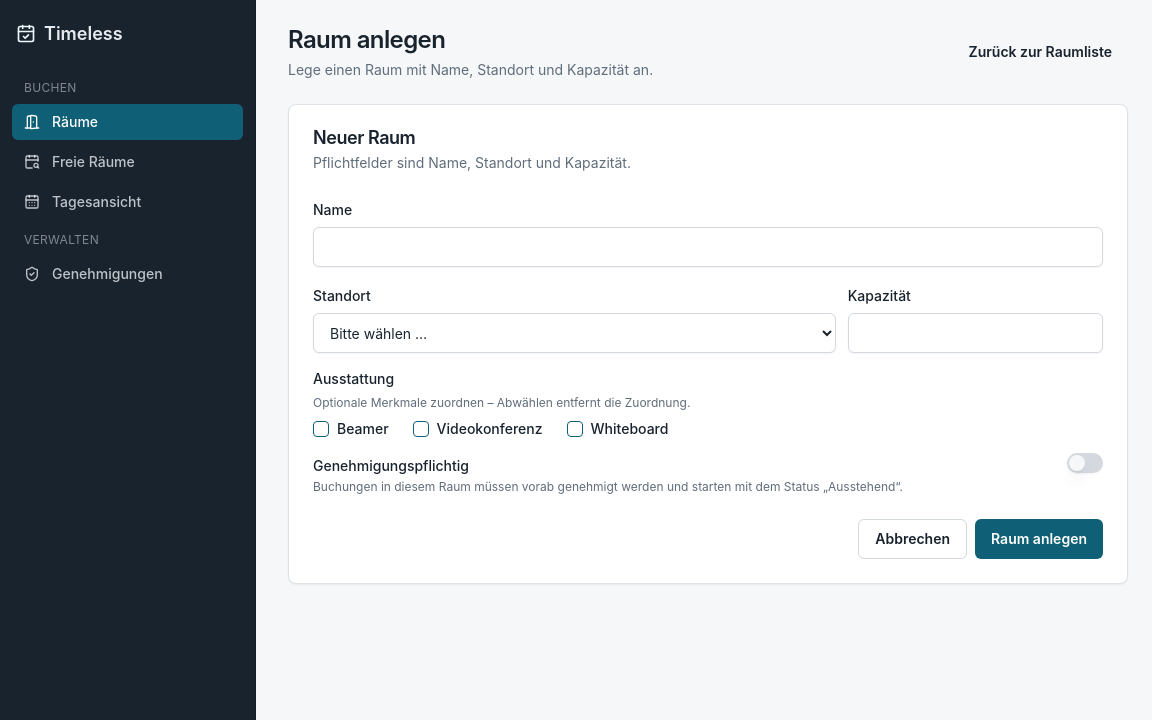
RoomForm – Submit-Fehleranzeige (Reject-Case) › zeigt einen Backend-400 als destructives Alert über dem Formular und aktiviert den Button danach wieder
The width and height of the screenshot is (1152, 720).
Expected: the form with test id "room-form" is shown, 313,197 -> 1103,559
In the field with test id "room-name": (708, 247) 313,227 -> 1103,267, type "Atelier Nord"
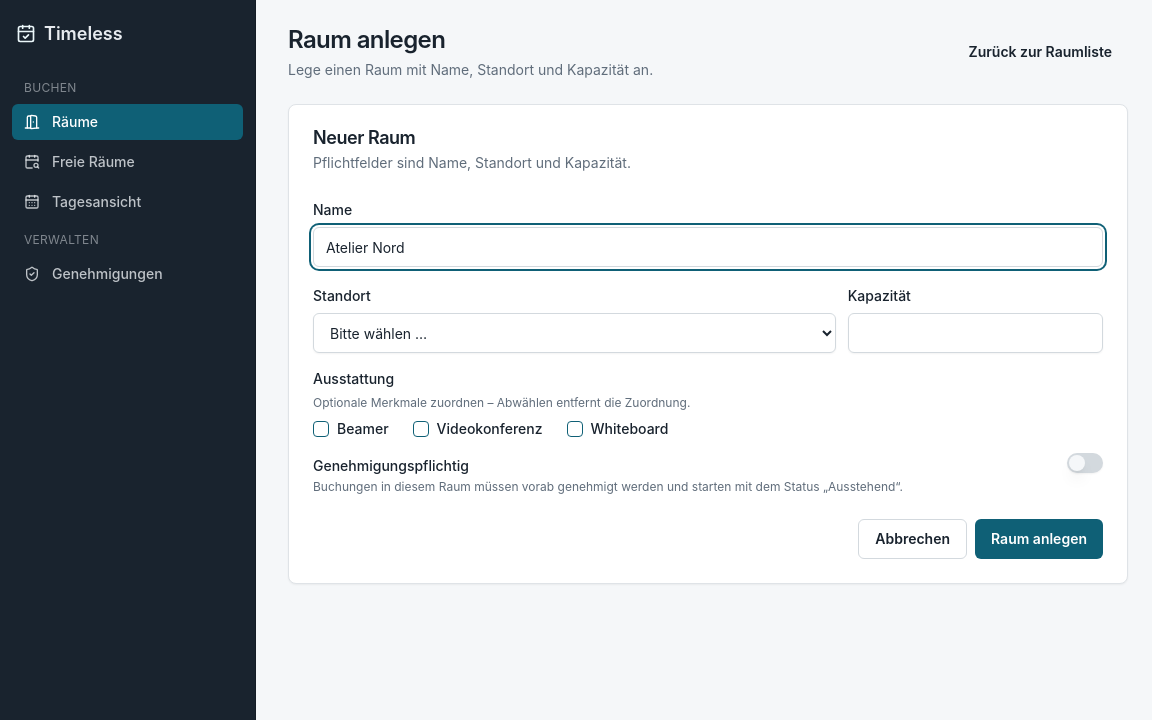
Select "Werkhaus" in the dropdown with test id "room-location": (574, 333) 313,313 -> 836,353
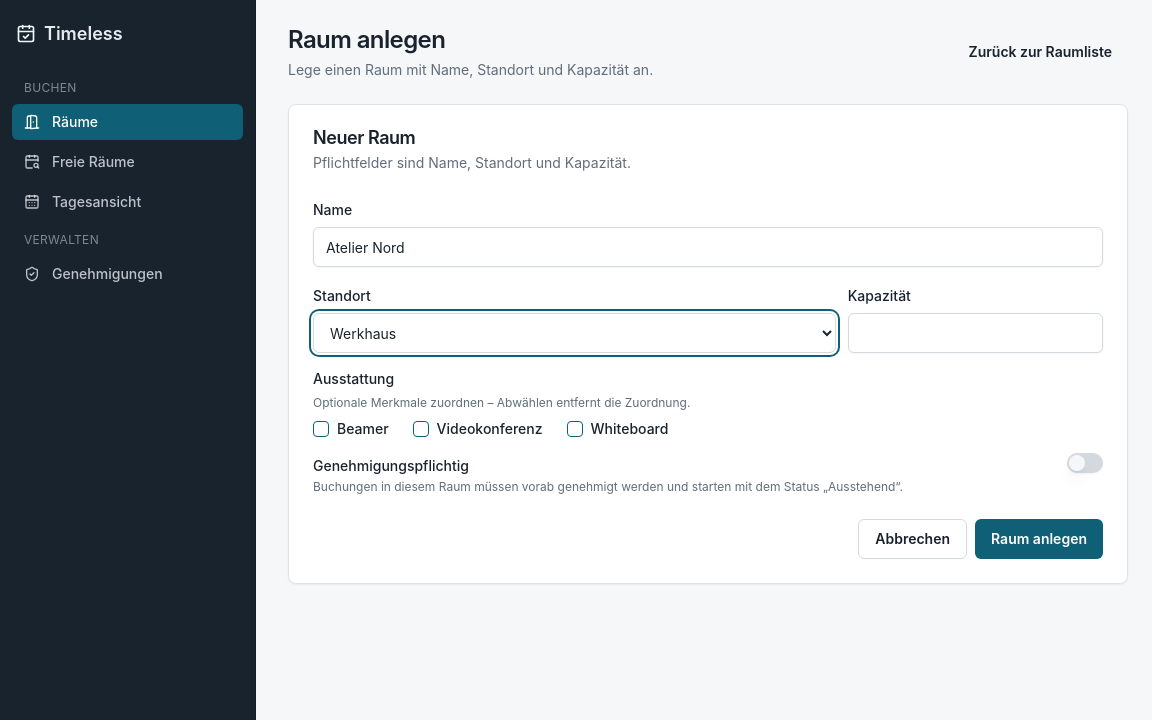
In the number field with test id "room-capacity": (975, 333) 848,313 -> 1103,353, type "12"
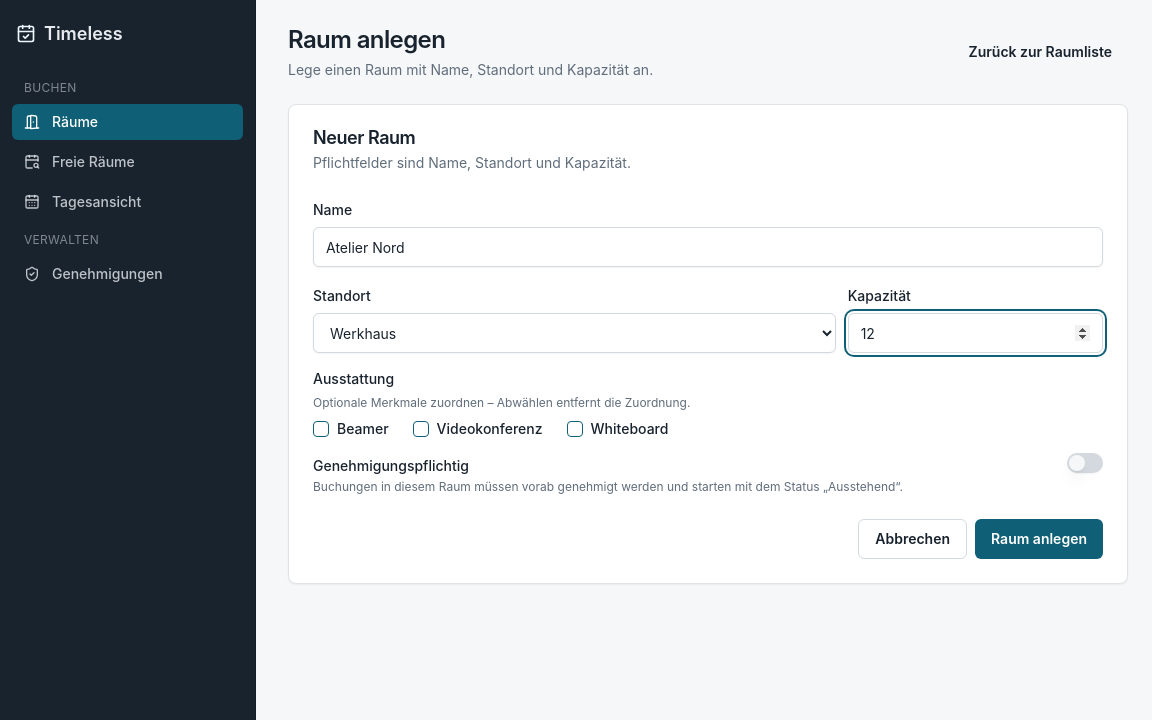
Click the button with test id "room-submit": click(1039, 539) 975,519 -> 1103,559
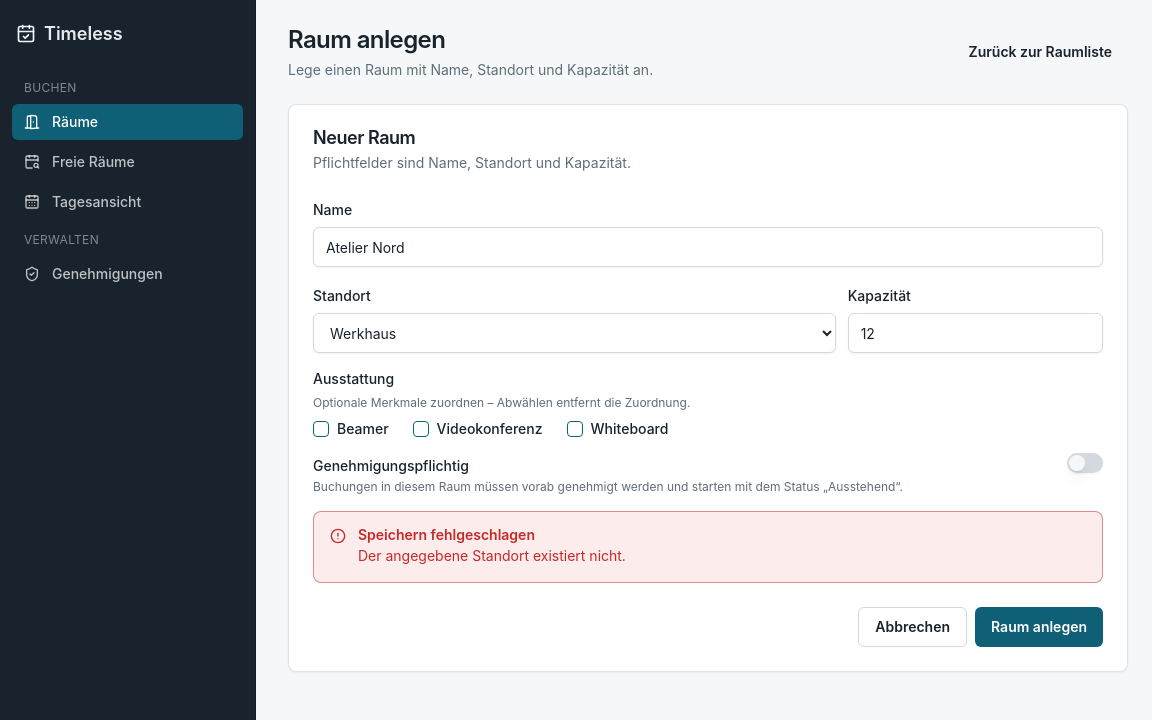
Expected: the button with test id "room-submit" is enabled, 975,607 -> 1103,647
Result: the message with test id "room-save-error" shows "Speichern fehlgeschlagen" at 358,526 -> 535,543
Result: the message with test id "room-save-error" shows "Der angegebene Standort existiert nicht." at 358,547 -> 626,564
